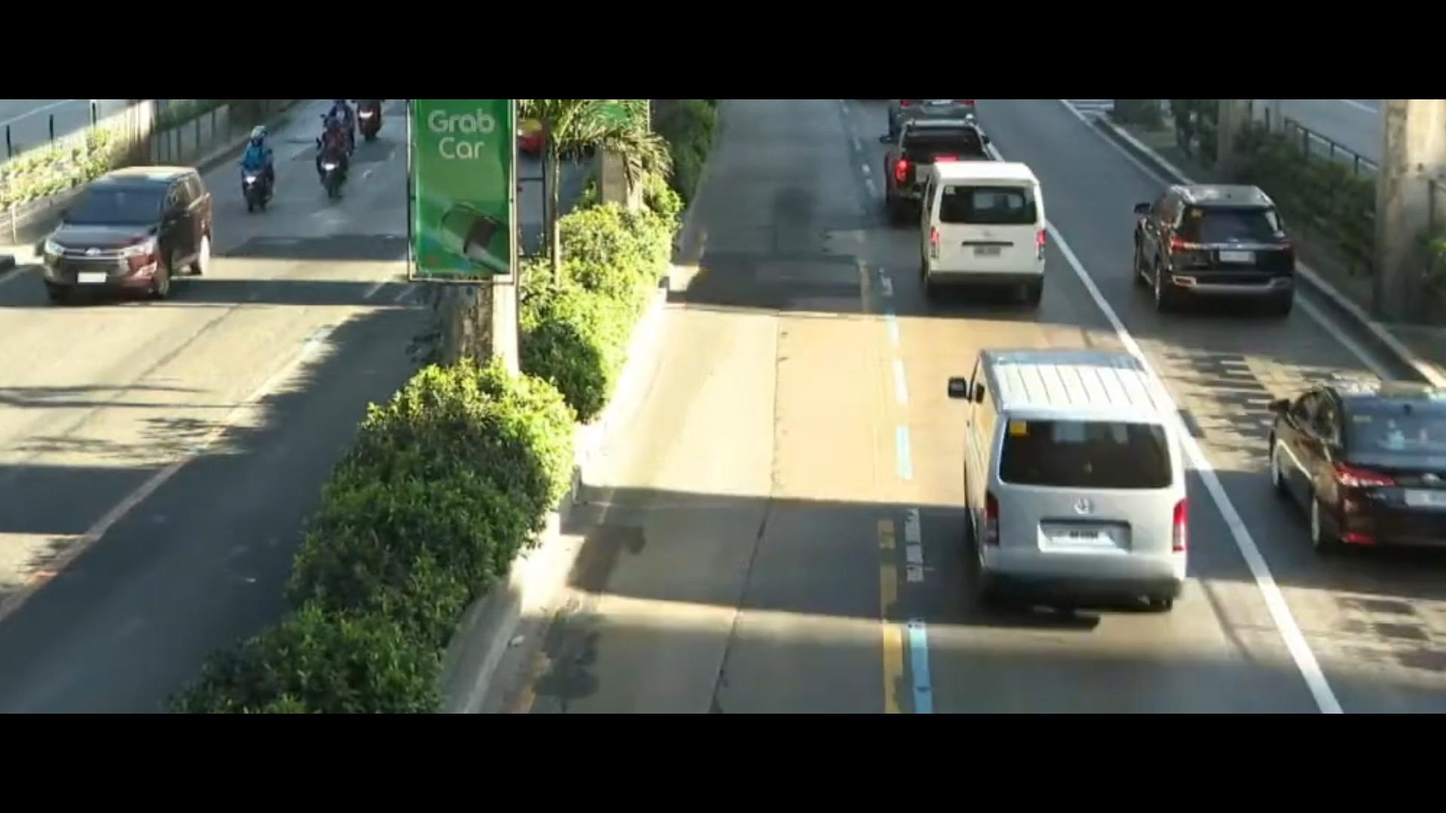Motorcycle: (295, 108, 371, 207), (234, 121, 292, 210), (350, 95, 384, 145)
SUV: (24, 151, 238, 338), (1131, 175, 1313, 325), (865, 102, 1032, 216)
Sedan: (1213, 349, 1446, 569)
Van: (931, 327, 1211, 623), (913, 137, 1067, 314)
